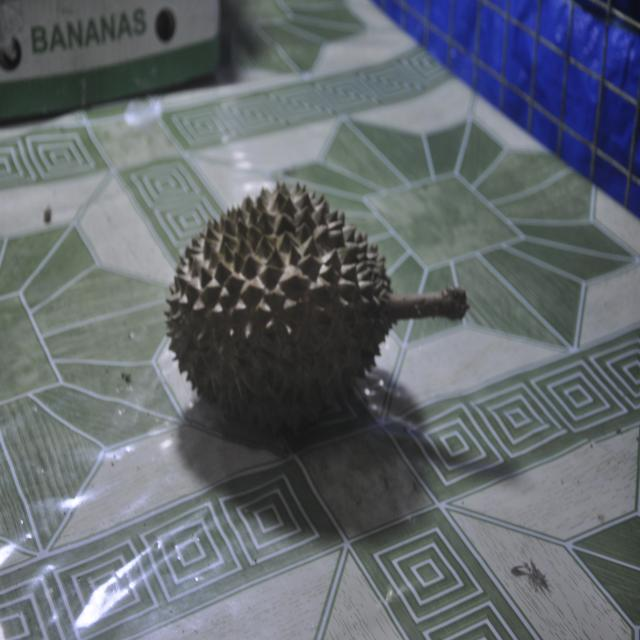mature: (166, 184, 467, 428)
